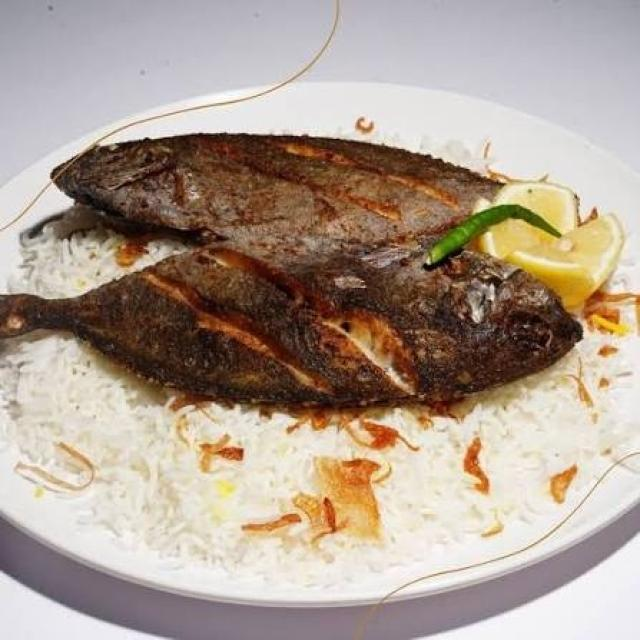Fried Fish: (49, 117, 640, 480)
